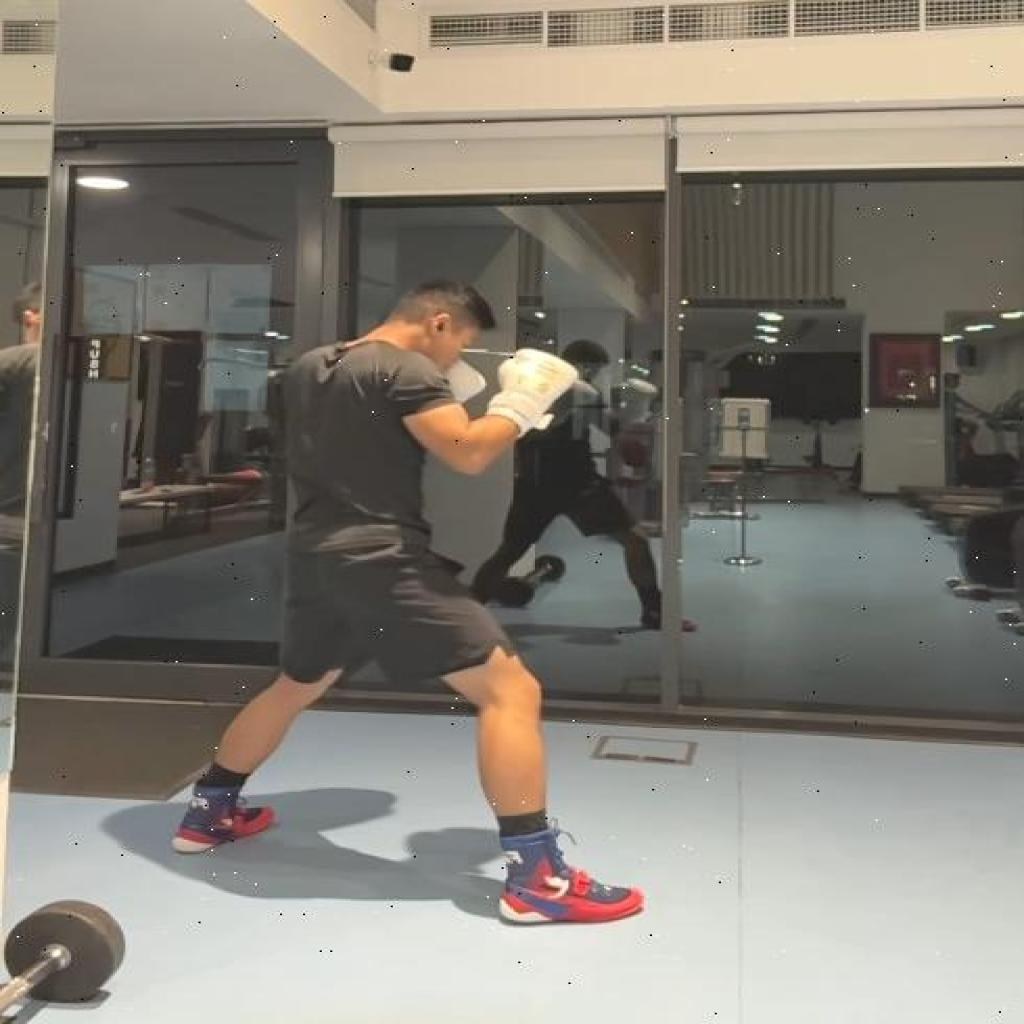no punch: (167, 268, 648, 930)
